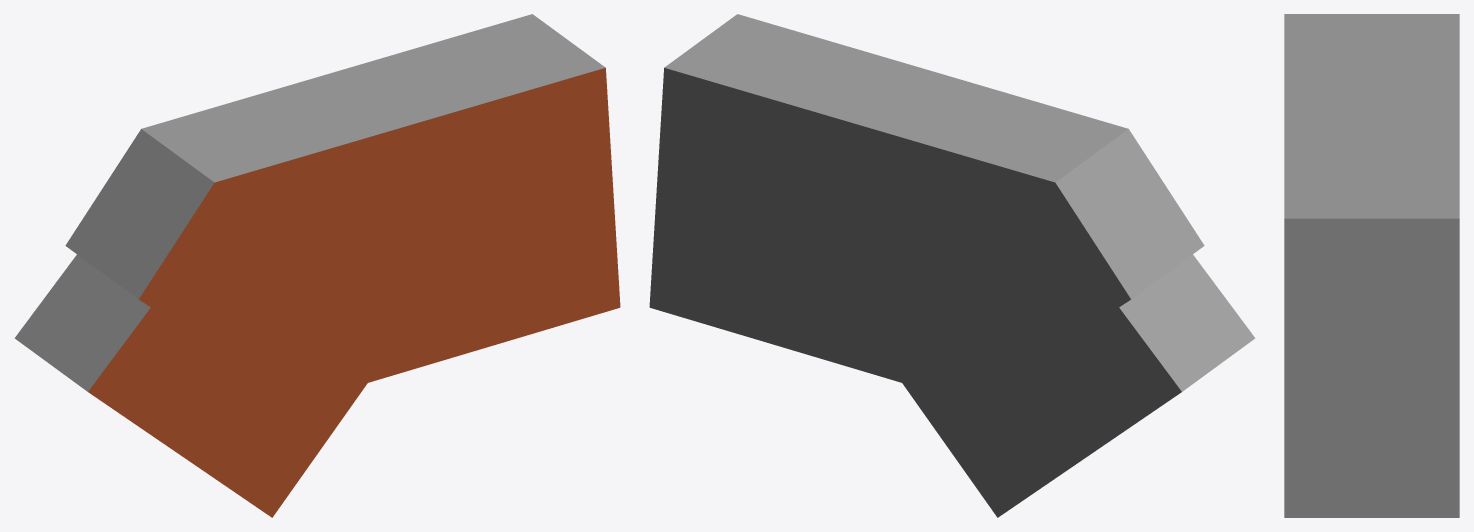
File: construction_5949_assumed_A_Casa_h6m.obj
The picture shows the model from 3 angles, left to right: view 1: azimuth 30°, elevation 25°; view 2: azimuth 150°, elevation 25°; view 3: azimuth 270°, elevation 25°; orthographic projection. The views are drawn at different scales.
Visible parts, largest first — view 1: construction_5949_assumed_A_Casa; view 2: construction_5949_assumed_A_Casa; view 3: construction_5949_assumed_A_Casa.
Part boxes in pixels (x1,y1,x2,y2): construction_5949_assumed_A_Casa: (14,14,620,517); construction_5949_assumed_A_Casa: (649,14,1255,517); construction_5949_assumed_A_Casa: (1284,14,1459,517).
Size of the model in its own units: 25.14 by 16.64 by 6.
